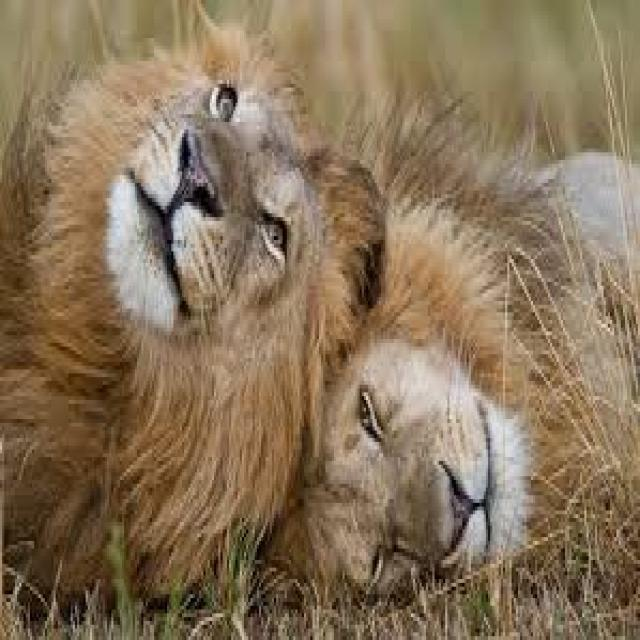Lion: (1, 17, 378, 622), (298, 111, 638, 591)
